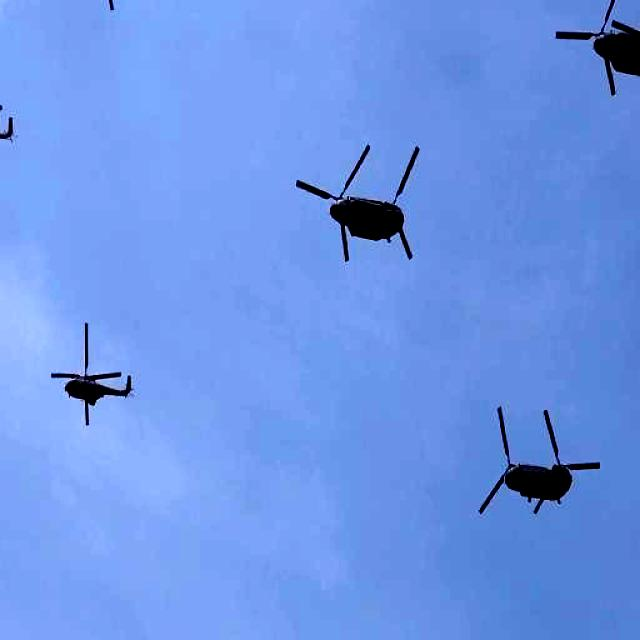drone: (461, 395, 619, 546), (298, 146, 456, 270), (40, 315, 144, 431), (555, 0, 640, 111), (0, 58, 25, 172)
